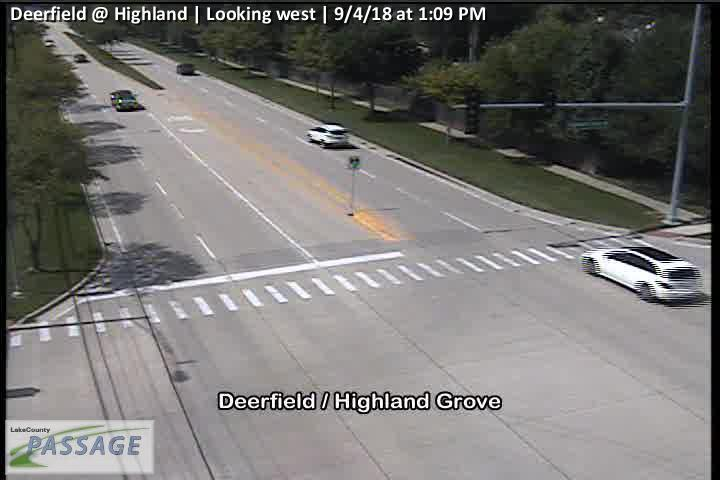SUV: (580, 245, 702, 304), (307, 124, 349, 147)
Sedan: (110, 90, 139, 112), (175, 62, 194, 74), (72, 53, 86, 61), (44, 39, 55, 46)
